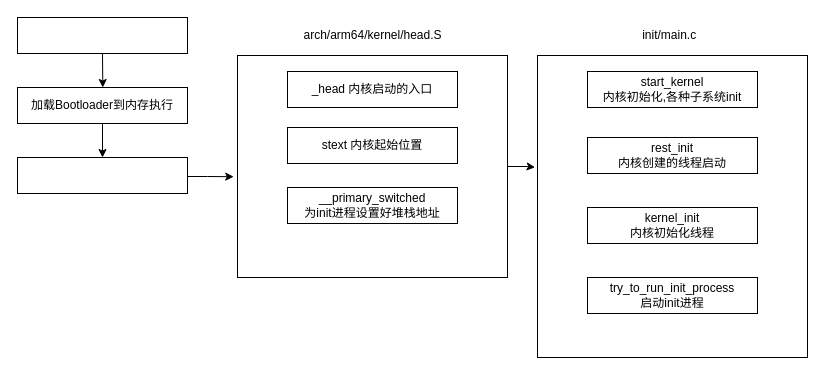
Image size: 825x375. Some labels were removed from this diagram. Each missing label, with the box of its shape:
加载并执行内核: (16, 156, 188, 194)
手机通电开机: (16, 16, 188, 54)
